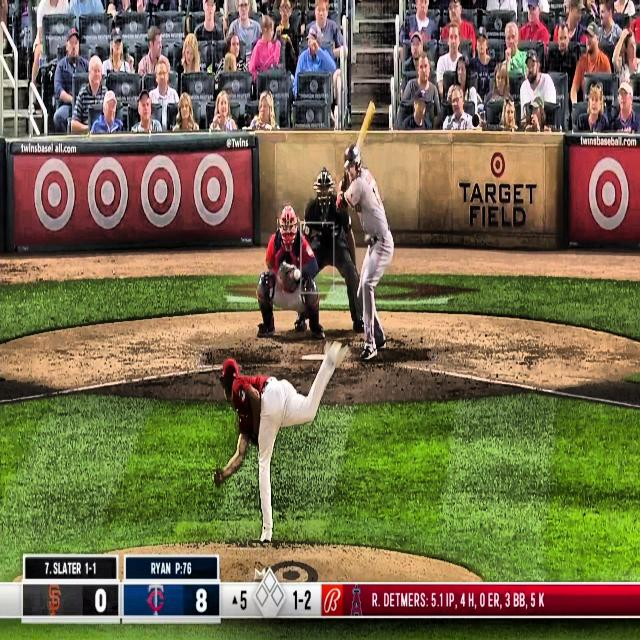baseball: (293, 267, 301, 281)
